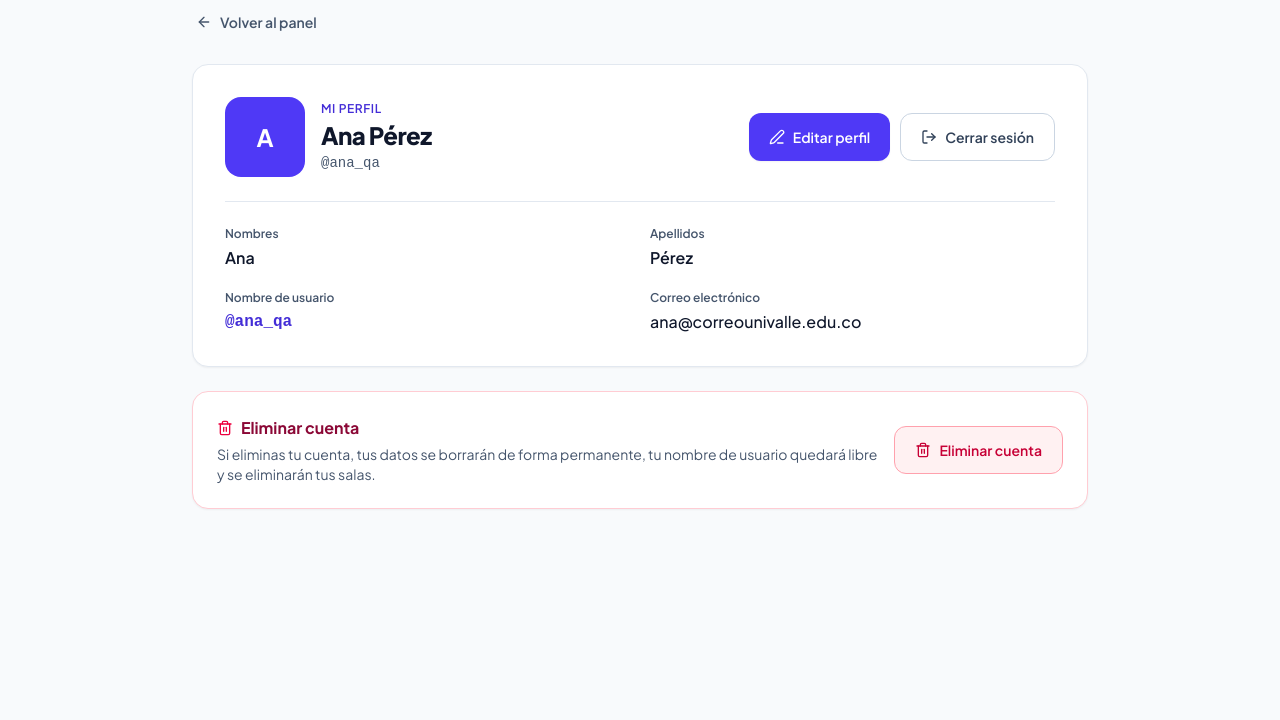
Test: US-05 | modal de advertencia › abre con el foco en «Cancelar» y explica las consecuencias
The width and height of the screenshot is (1280, 720).
Click the button "Eliminar cuenta" at {"x": 979, "y": 450}, box [894, 426, 1063, 474]
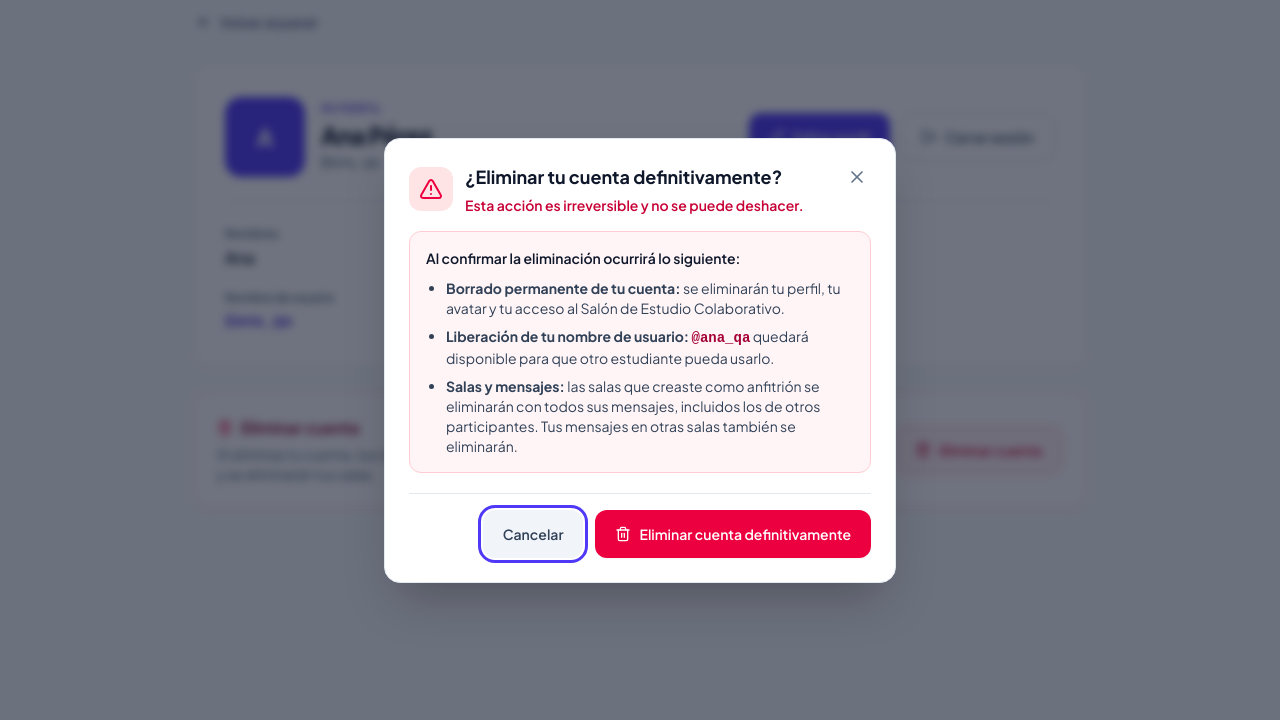
Expected: the dialog "¿Eliminar tu cuenta definitivamente?" shows "@ana_qa quedará disponible", [384, 138, 896, 582]
Expected: the dialog "¿Eliminar tu cuenta definitivamente?" shows "incluidos los de otros participantes", [446, 376, 820, 454]
